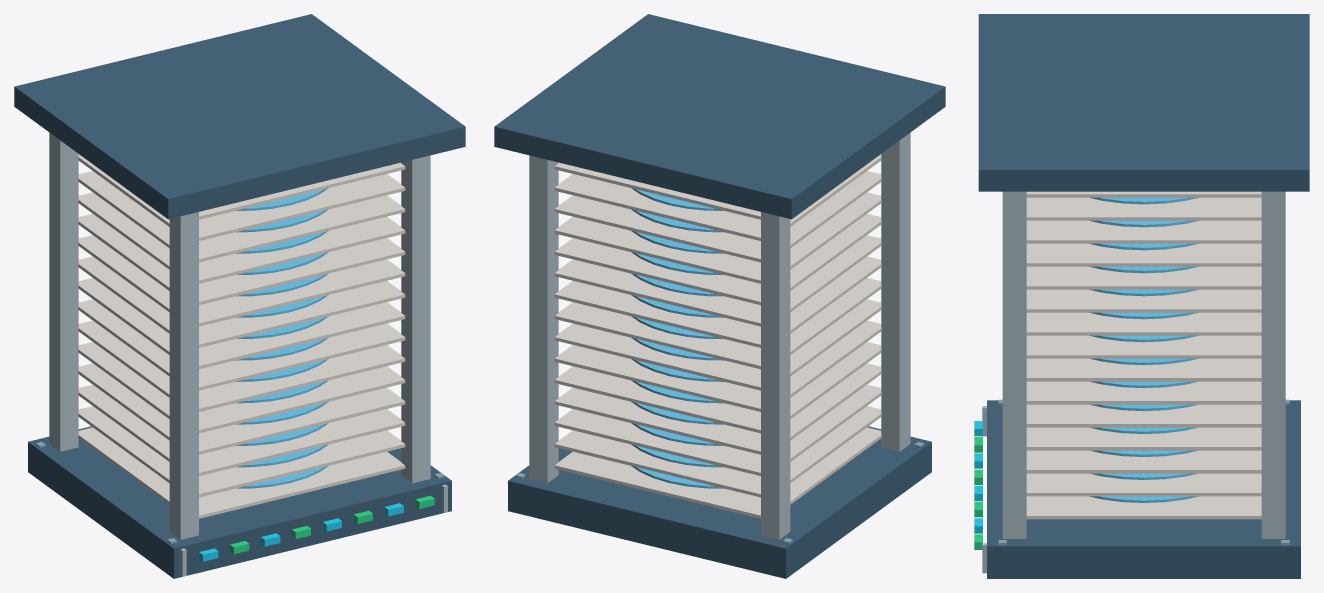
File: 09_L72_WaferCarrierCassette.fbx
3 renders of one model, left to right at view 1: azimuth 30°, elevation 25°; view 2: azimuth 150°, elevation 25°; view 3: azimuth 270°, elevation 25°, orthographic. The views are drawn at different scales.
Visible parts, largest first — view 1: WaferCarrierCassette; view 2: WaferCarrierCassette; view 3: WaferCarrierCassette.
Part boxes in pixels (bbox=[...]): WaferCarrierCassette: bbox=[14, 14, 465, 578]; WaferCarrierCassette: bbox=[494, 14, 945, 578]; WaferCarrierCassette: bbox=[974, 14, 1309, 578].
Size of the model in its own units: 154 by 190 by 140.
